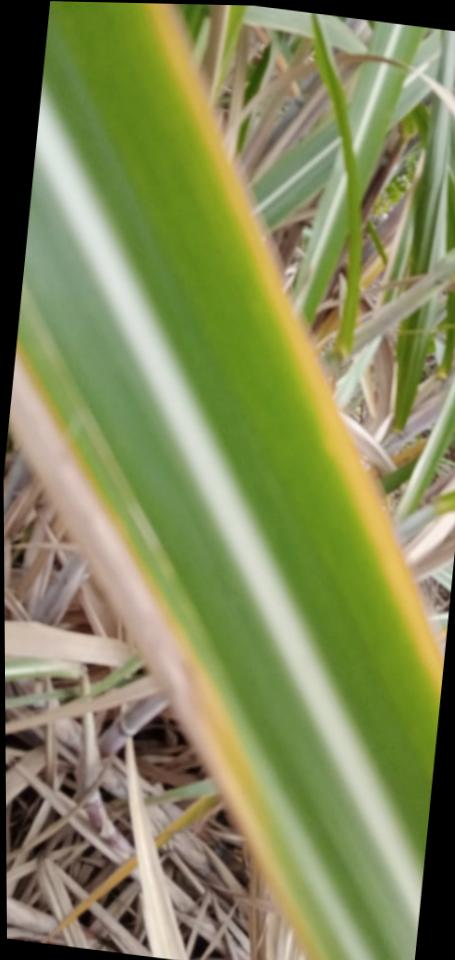Yellow: (138, 3, 441, 702), (15, 340, 266, 837)
